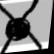not correct: (0, 0, 50, 54)
